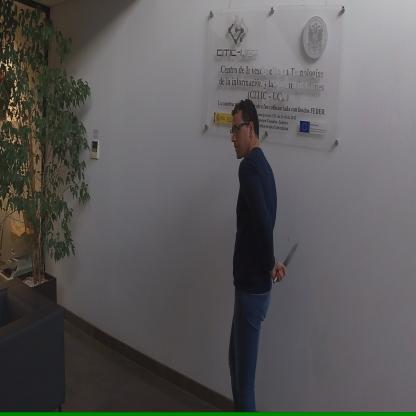knife: (272, 239, 301, 286)
